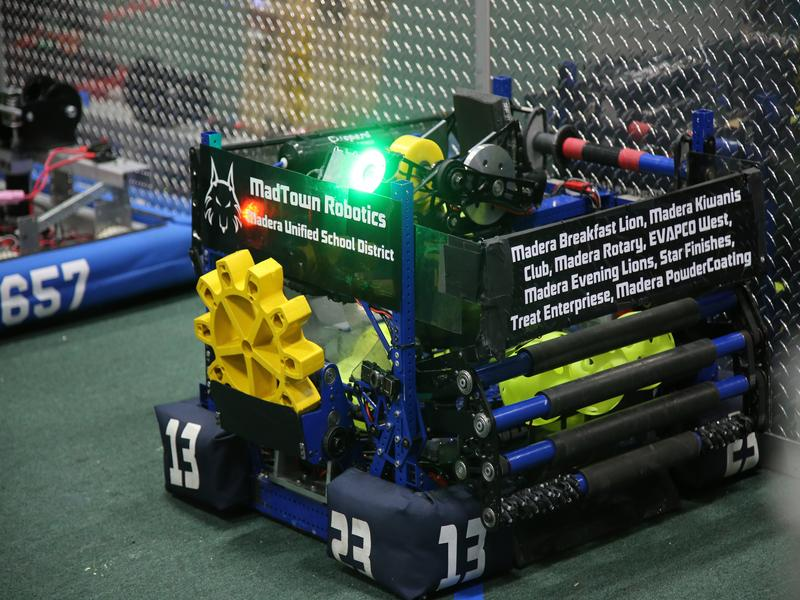robot: (161, 107, 761, 590)
